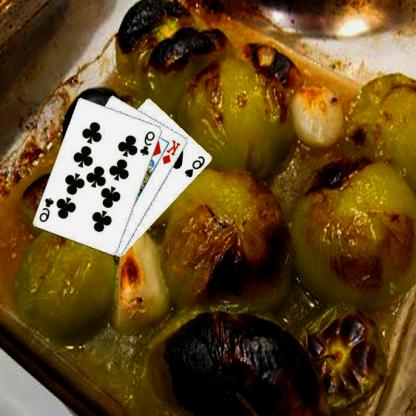6S: (184, 153, 208, 179)
9C: (38, 195, 57, 223), (140, 129, 158, 157)
KD: (161, 137, 184, 166)
